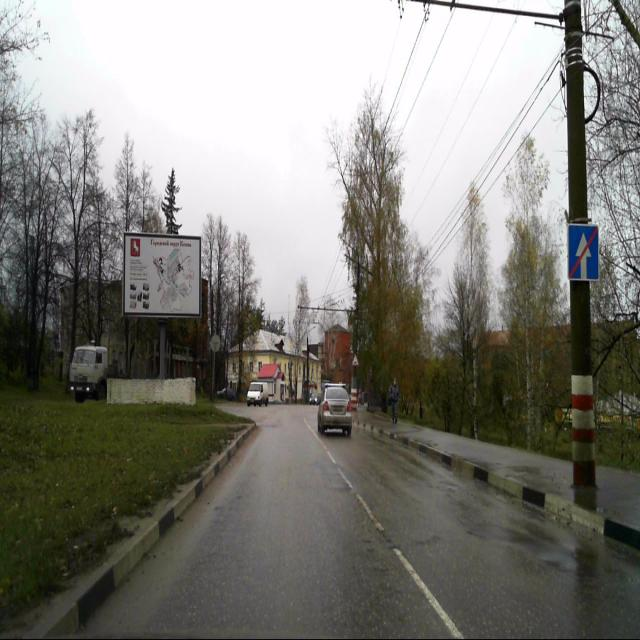road sign: (566, 222, 600, 282)
